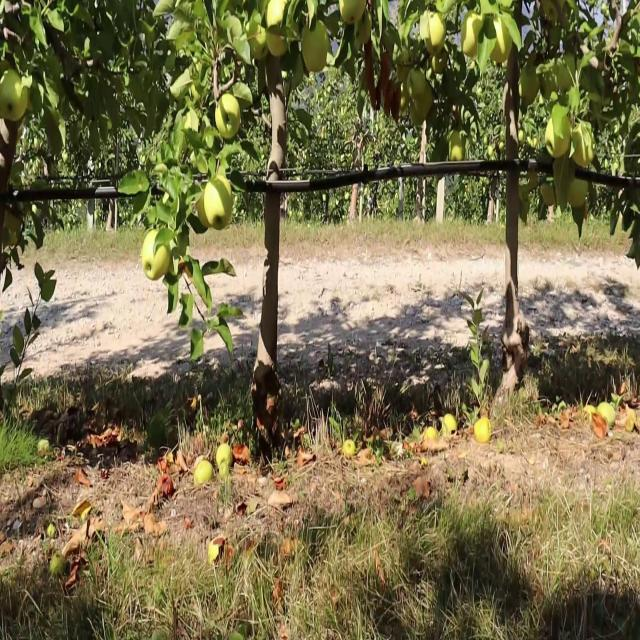apple: (204, 177, 234, 229), (304, 21, 331, 75), (364, 49, 392, 98), (488, 14, 512, 66), (216, 99, 241, 142), (424, 14, 447, 55), (412, 85, 435, 126), (464, 14, 483, 59), (248, 28, 268, 62), (356, 7, 372, 48), (268, 28, 288, 57), (408, 71, 427, 100), (268, 56, 283, 92), (8, 213, 23, 249), (340, 7, 365, 28), (196, 199, 212, 231), (292, 56, 307, 89), (432, 49, 448, 78), (392, 85, 403, 121), (572, 184, 587, 210), (268, 7, 286, 28), (452, 135, 464, 164), (384, 85, 395, 114)
